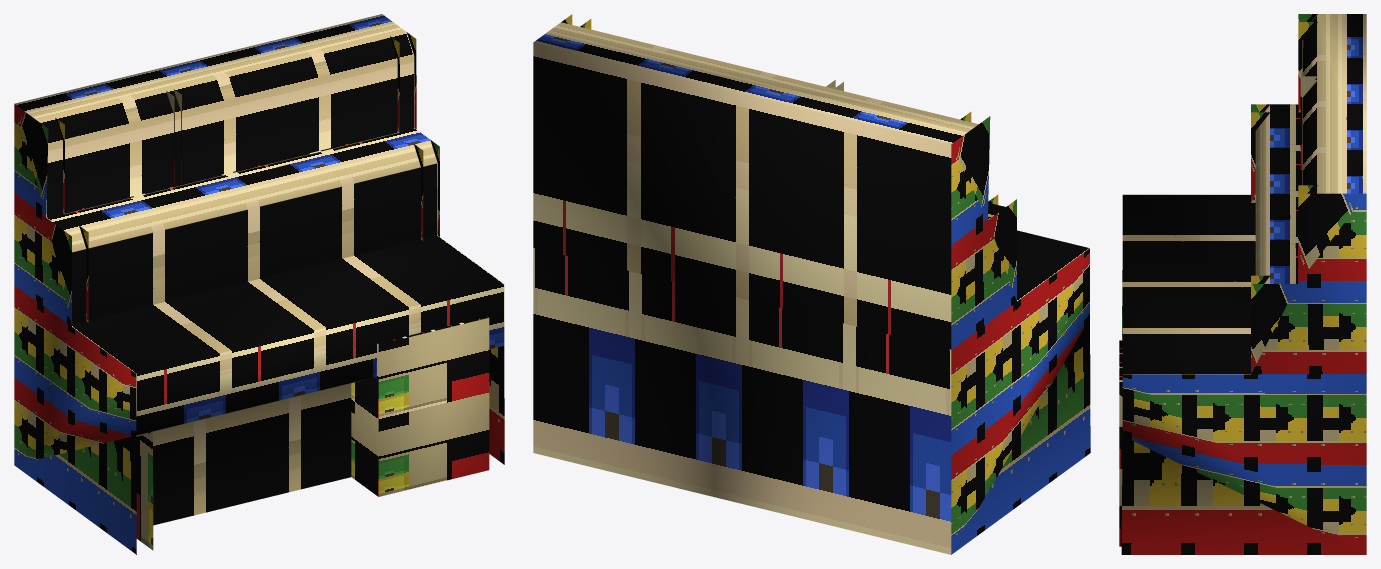
File: 3375imig17_02.gltf
3 renders of one model, left to right at view 1: azimuth 30°, elevation 25°; view 2: azimuth 150°, elevation 25°; view 3: azimuth 270°, elevation 25°, orthographic. The views are drawn at different scales.
Visible parts, largest first — view 1: 3375imig17_02; view 2: 3375imig17_02; view 3: 3375imig17_02.
Boxes of the visible parts, <box> form: 3375imig17_02: <box>14,14,504,554</box>; 3375imig17_02: <box>533,14,1090,554</box>; 3375imig17_02: <box>1119,14,1366,554</box>.
Size of the model in its own units: 1.6 by 1.5 by 0.9314.
Materials: 3 (3 with a texture image).
